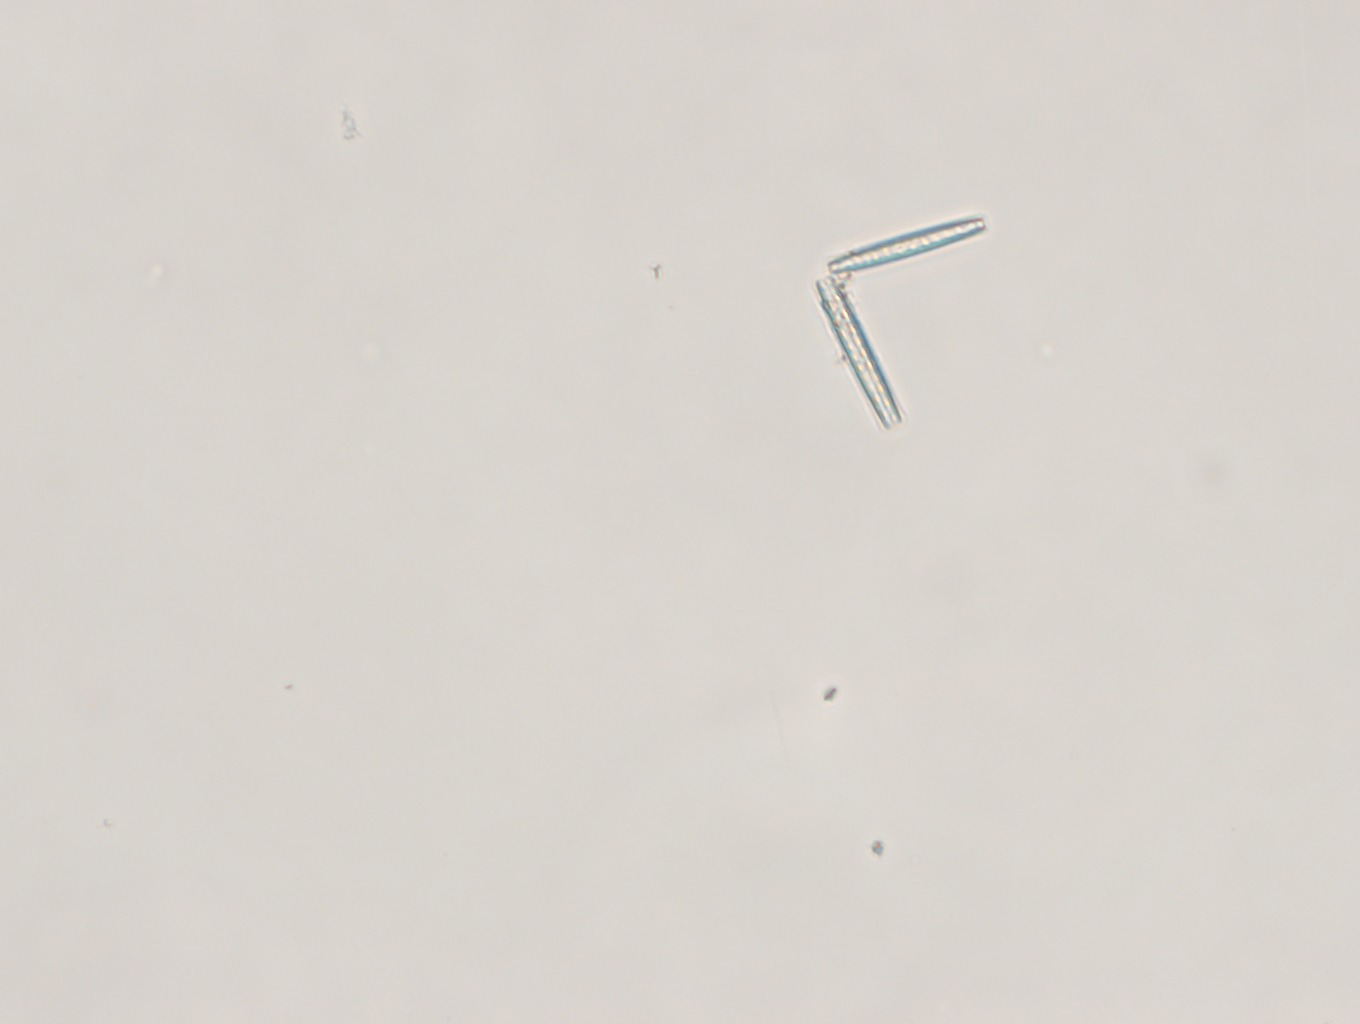thalassionema nitzschioides: (805, 207, 989, 433)
